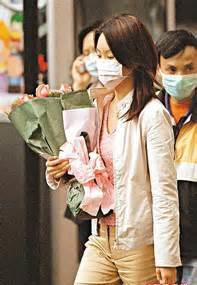OK: (97, 45, 138, 86), (163, 60, 197, 96), (85, 45, 113, 80)
